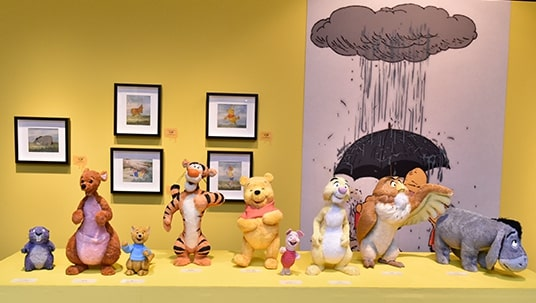Winnie: (230, 170, 290, 221)
